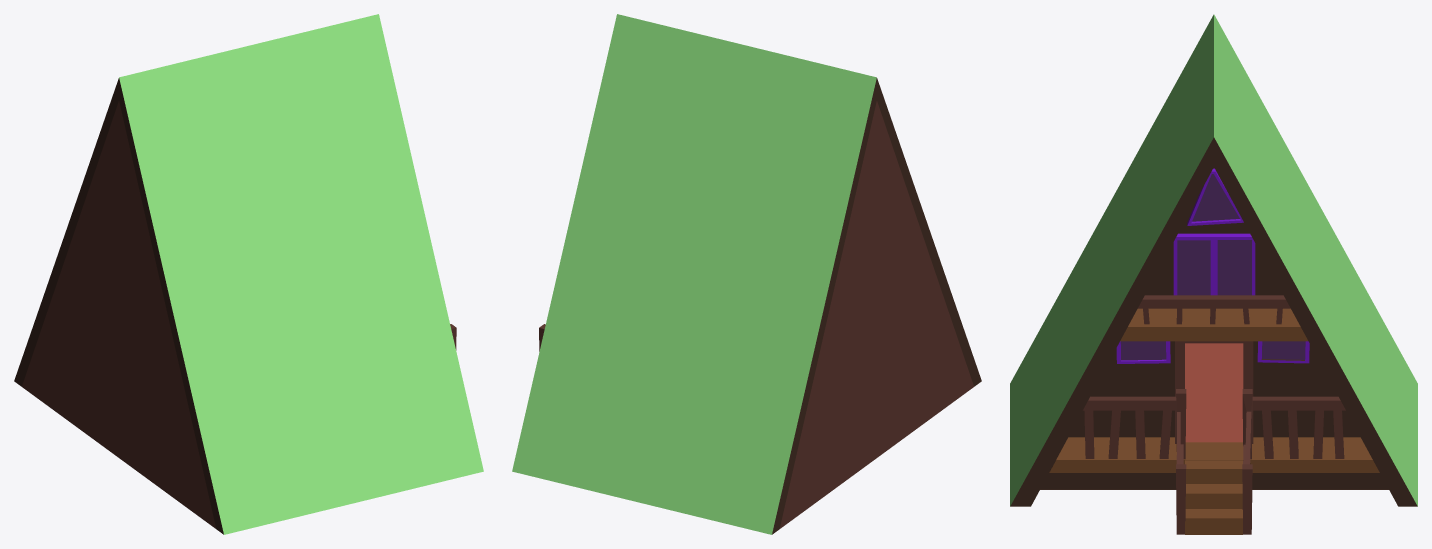
The model's file is Ulyana.fbx.
The picture shows the model from 3 angles, left to right: view 1: azimuth 30°, elevation 25°; view 2: azimuth 150°, elevation 25°; view 3: azimuth 270°, elevation 25°; orthographic projection. The views are drawn at different scales.
Visible parts, largest first — view 1: Cube; view 2: Cube; view 3: Cube.
Boxes of the visible parts, <box> form: Cube: <box>14,14,483,534</box>; Cube: <box>512,14,981,534</box>; Cube: <box>1010,14,1417,534</box>.
Size of the model in its own units: 1224 by 1404 by 1400.
